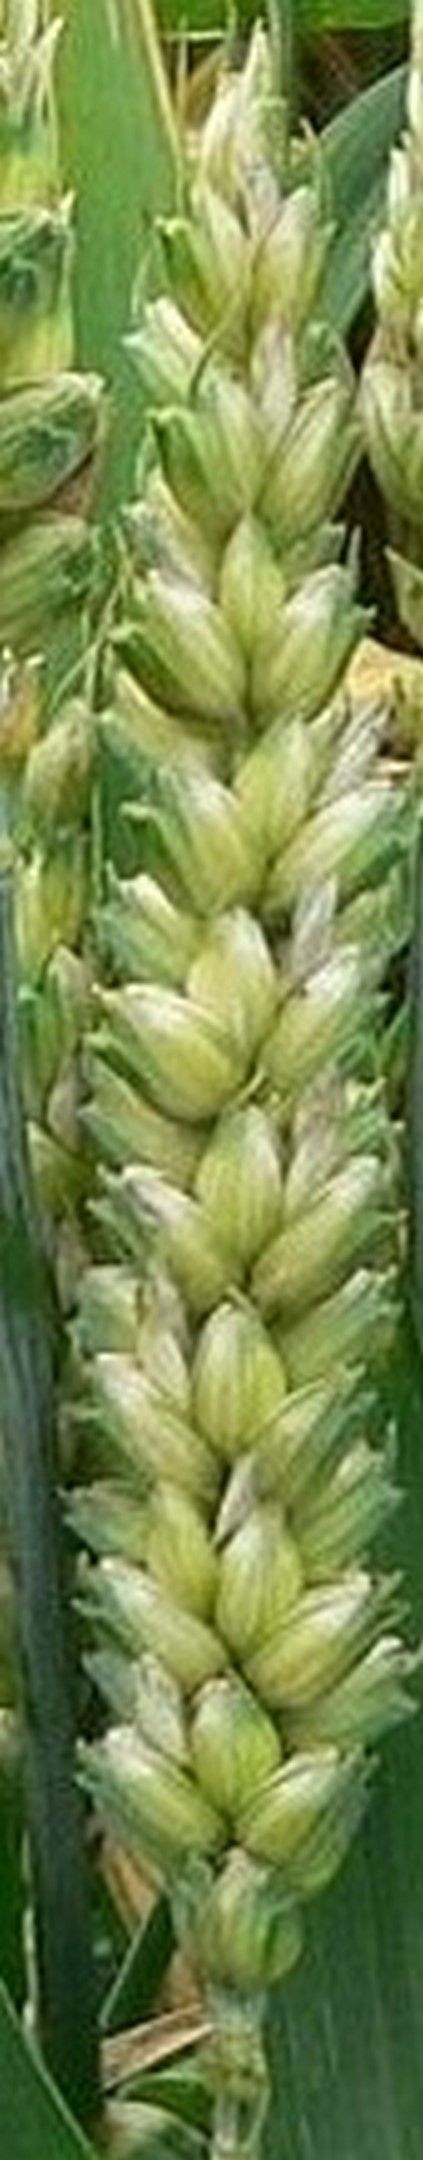Healthy Wheat: (40, 118, 423, 2017)
